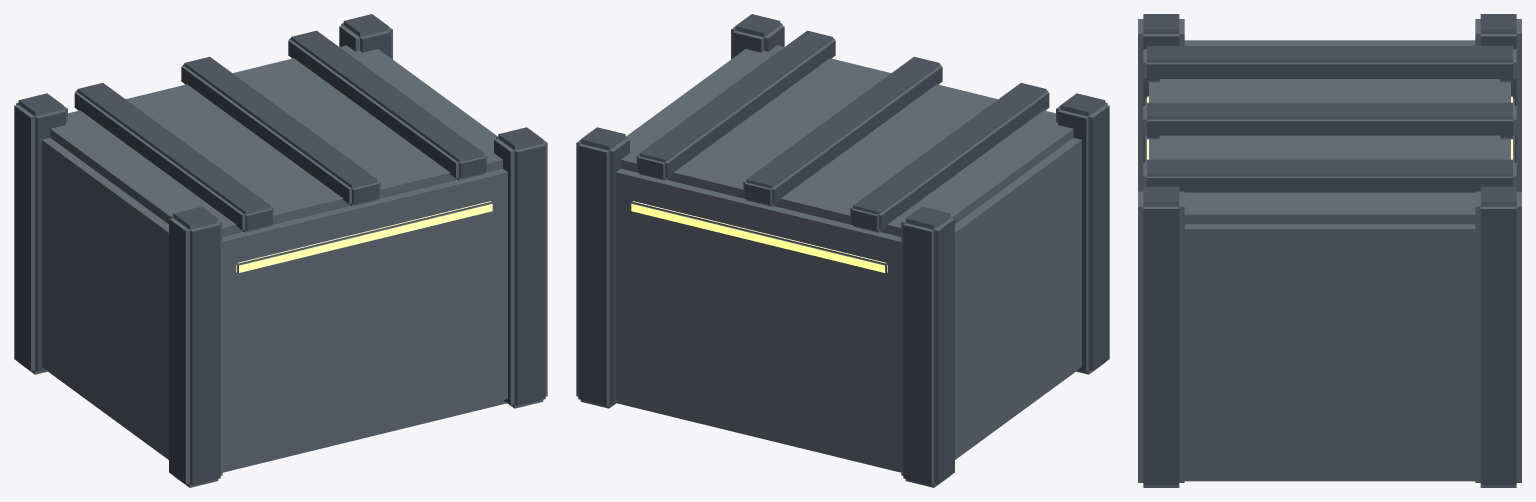
Rendered from SM_CoastCrate.glb.
The picture shows the model from 3 angles, left to right: view 1: azimuth 30°, elevation 25°; view 2: azimuth 150°, elevation 25°; view 3: azimuth 270°, elevation 25°; orthographic projection. The views are drawn at different scales.
Parts seen in each view (by area): view 1: SM_CoastCrate; view 2: SM_CoastCrate; view 3: SM_CoastCrate.
Boxes of the visible parts, bbox=[...] form: SM_CoastCrate: bbox=[14, 14, 547, 487]; SM_CoastCrate: bbox=[576, 14, 1109, 487]; SM_CoastCrate: bbox=[1138, 14, 1521, 487].
Size of the model in its own units: 2.54 by 1.76 by 2.14.
